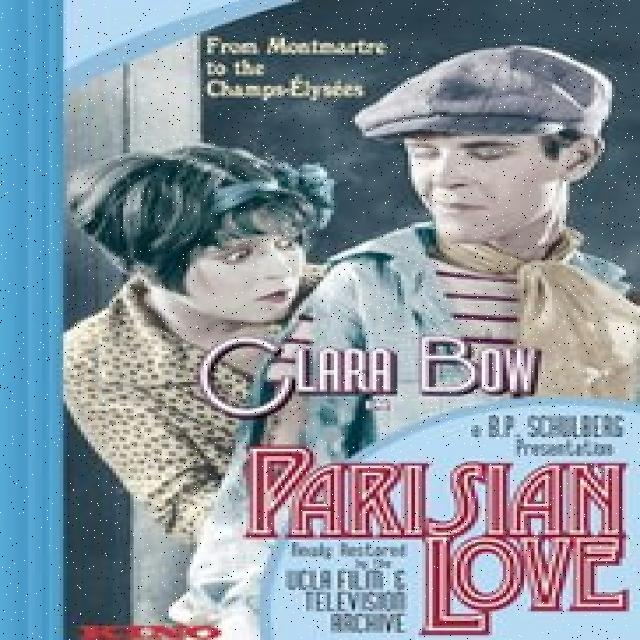movie-judul: (228, 438, 639, 640)
picture: (45, 49, 640, 414)
